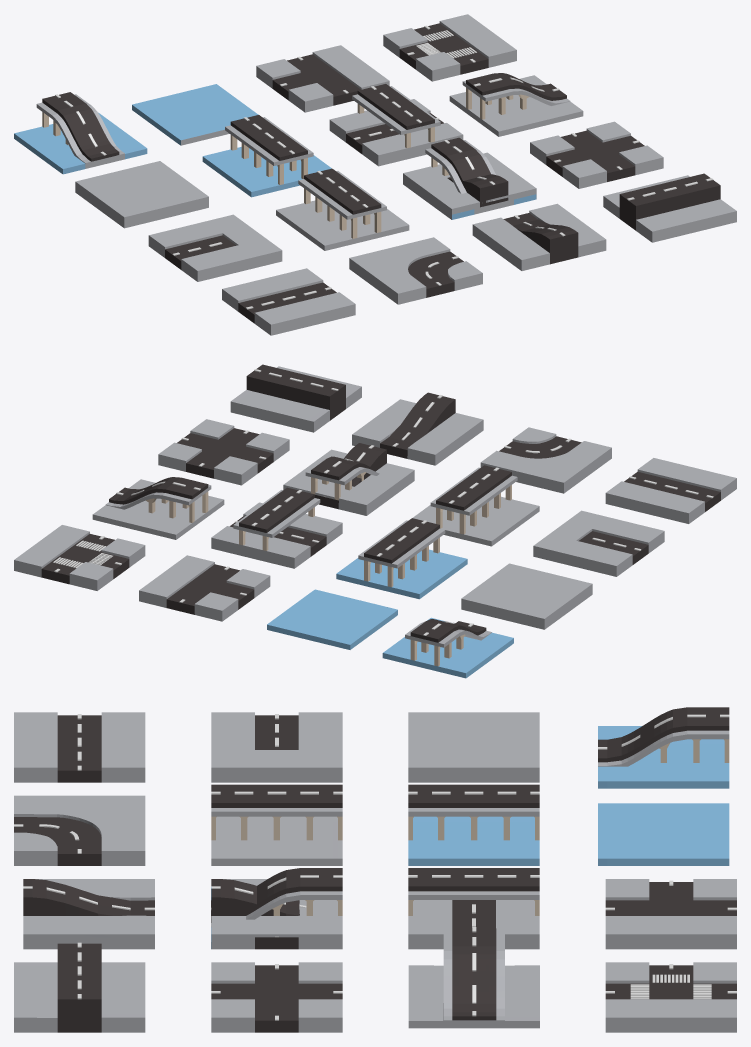
File: Streets_all.glb
3 views of the same model, one above another, from view 1: azimuth 30°, elevation 25°; view 2: azimuth 150°, elevation 25°; view 3: azimuth 270°, elevation 25° (orthographic). The views are drawn at different scales.
Visible parts, largest first — view 1: Street_Bridge_Underpass, Street_Bridge, Street_Ramp_Water.001, Street_Elevated, Street_Bridge_Water, Street_Deadend, Street_Empty, Street_Curve, Street_Straight, Street_RampElevated, Street_3Way, Street_4Way_2 (+7 smaller); view 2: Street_Bridge_Underpass, Street_Bridge_Water, Street_RampElevated, Street_Elevated, Street_Bridge, Street_Empty, Street_Deadend, Street_Straight, Street_3Way_2, Street_3Way, Street_4Way_2, Street_Ramp_Bridge.001 (+7 smaller); view 3: Street_Bridge, Street_Bridge_Water, Street_Ramp_Bridge.001, Street_Elevated, Street_Ramp_Water.001, Street_Bridge_Underpass, Street_Empty, Street_Curve, Street_3Way_2, Street_3Way, Street_Straight, Street_4Way_2 (+7 smaller).
Boxes of the visible parts, bbox=[...] form: Street_Bridge_Underpass: bbox=[329, 84, 463, 166]; Street_Bridge: bbox=[276, 168, 409, 250]; Street_Ramp_Water.001: bbox=[14, 92, 147, 174]; Street_Elevated: bbox=[603, 173, 736, 242]; Street_Bridge_Water: bbox=[202, 115, 331, 197]; Street_Deadend: bbox=[148, 214, 282, 281]; Street_Empty: bbox=[75, 161, 208, 228]; Street_Curve: bbox=[349, 237, 482, 304]; Street_Straight: bbox=[222, 268, 355, 335]; Street_RampElevated: bbox=[472, 203, 606, 270]; Street_3Way: bbox=[383, 14, 516, 81]; Street_4Way_2: bbox=[530, 121, 663, 188]; Street_Bridge_Underpass: bbox=[211, 487, 342, 568]; Street_Bridge_Water: bbox=[336, 518, 467, 599]; Street_RampElevated: bbox=[352, 392, 483, 465]; Street_Elevated: bbox=[230, 364, 361, 432]; Street_Bridge: bbox=[412, 465, 539, 546]; Street_Empty: bbox=[461, 563, 592, 629]; Street_Deadend: bbox=[533, 510, 664, 576]; Street_Straight: bbox=[605, 458, 736, 523]; Street_3Way_2: bbox=[139, 555, 270, 621]; Street_3Way: bbox=[14, 525, 145, 590]; Street_4Way_2: bbox=[158, 419, 289, 485]; Street_Ramp_Bridge.001: bbox=[92, 477, 224, 539]; Street_Bridge: bbox=[211, 784, 342, 865]; Street_Bridge_Water: bbox=[408, 784, 539, 865]; Street_Ramp_Bridge.001: bbox=[408, 927, 539, 1028]; Street_Elevated: bbox=[14, 942, 145, 1032]; Street_Ramp_Water.001: bbox=[598, 707, 729, 788]; Street_Bridge_Underpass: bbox=[408, 868, 539, 949]; Street_Empty: bbox=[408, 712, 539, 782]; Street_Curve: bbox=[14, 795, 145, 865]; Street_3Way_2: bbox=[605, 879, 736, 949]; Street_3Way: bbox=[605, 962, 736, 1032]; Street_Straight: bbox=[14, 712, 145, 782]; Street_4Way_2: bbox=[211, 962, 342, 1032].
Size of the model in its own units: 11 by 0.768 by 11.
